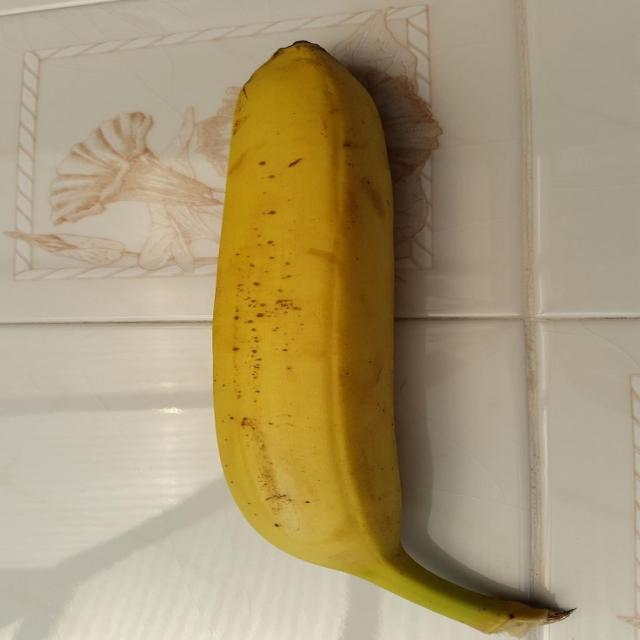unpeal banana: (214, 42, 559, 636)
